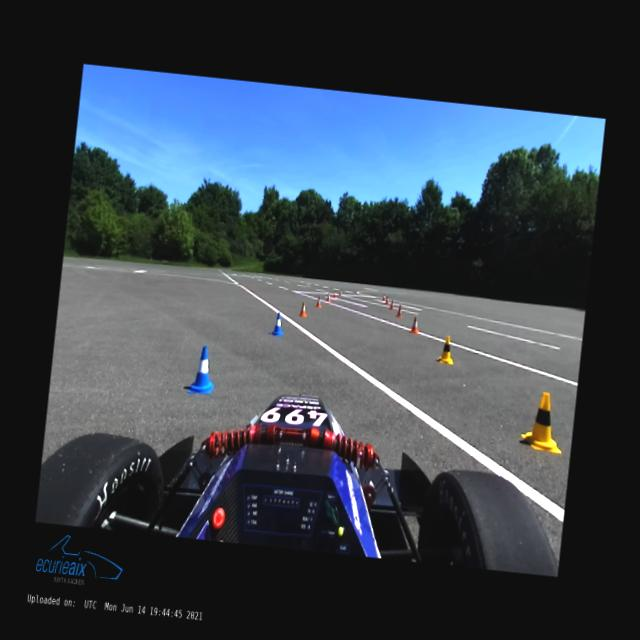blue_cone: (187, 345, 217, 395), (272, 312, 286, 336)
orange_cone: (409, 316, 419, 334), (298, 301, 308, 316), (315, 296, 322, 308), (396, 303, 402, 317), (389, 300, 394, 310), (326, 292, 330, 301), (384, 296, 388, 304), (333, 290, 337, 298), (382, 294, 386, 300), (338, 289, 342, 295)
yellow_cone: (519, 389, 567, 454), (437, 334, 456, 366)
